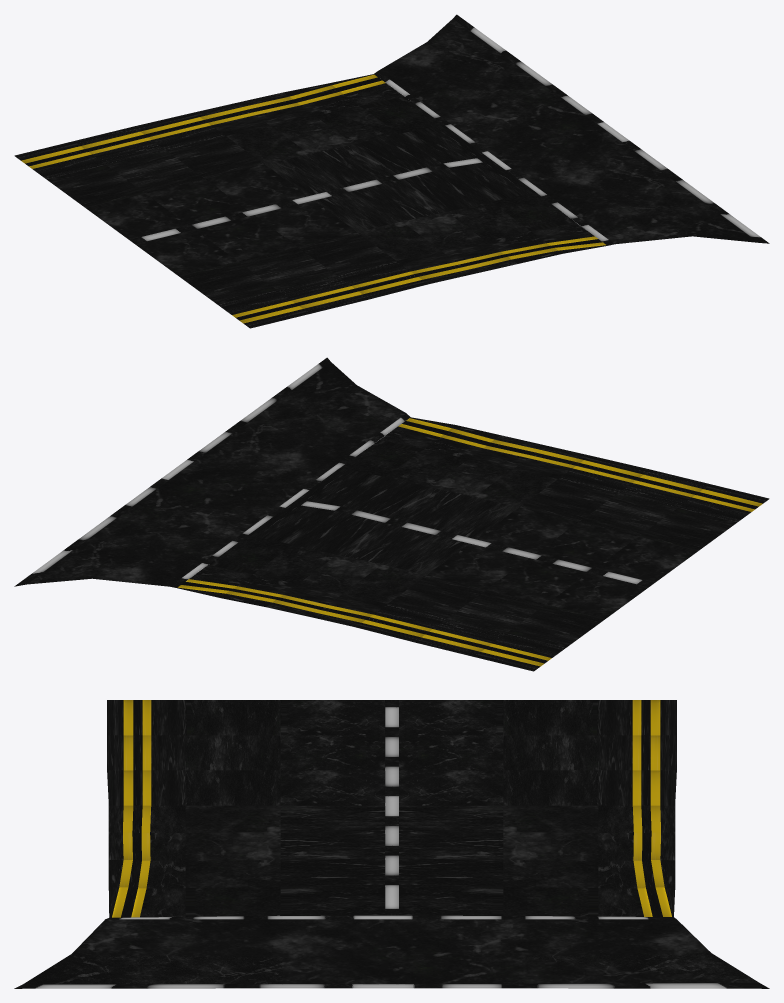
The model's file is RoadLaneTurn_Horizontal.fbx.
3 renders of one model, top to bottom at view 1: azimuth 30°, elevation 25°; view 2: azimuth 150°, elevation 25°; view 3: azimuth 270°, elevation 25°, orthographic. The views are drawn at different scales.
Parts seen in each view (by area): view 1: RoadLaneLeft, RoadLaneRight, PedestrianRoad, DottedLines; view 2: RoadLaneRight, RoadLaneLeft, PedestrianRoad, DottedLines; view 3: RoadLaneLeft, RoadLaneRight, PedestrianRoad, DottedLines.
Part boxes in pixels (<box>): RoadLaneLeft: <box>135,161,607,328</box>; RoadLaneRight: <box>14,74,486,239</box>; PedestrianRoad: <box>374,14,769,245</box>; DottedLines: <box>129,156,492,244</box>; RoadLaneRight: <box>177,504,648,671</box>; RoadLaneLeft: <box>297,417,769,582</box>; PedestrianRoad: <box>14,357,410,587</box>; DottedLines: <box>291,499,654,587</box>; RoadLaneLeft: <box>107,700,384,917</box>; RoadLaneRight: <box>399,700,676,916</box>; PedestrianRoad: <box>14,915,769,988</box>; DottedLines: <box>385,700,398,915</box>.
Bounding box in the file's own units: 943 × 10.14 × 1063.
1 material, 1 textured.
